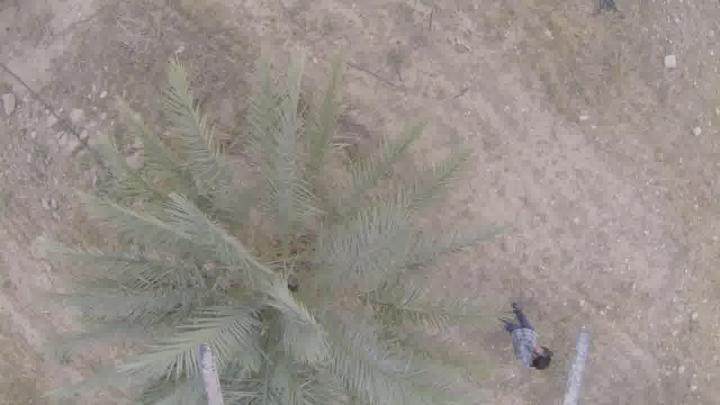Date-Palm-Crown: (159, 152, 420, 404)
